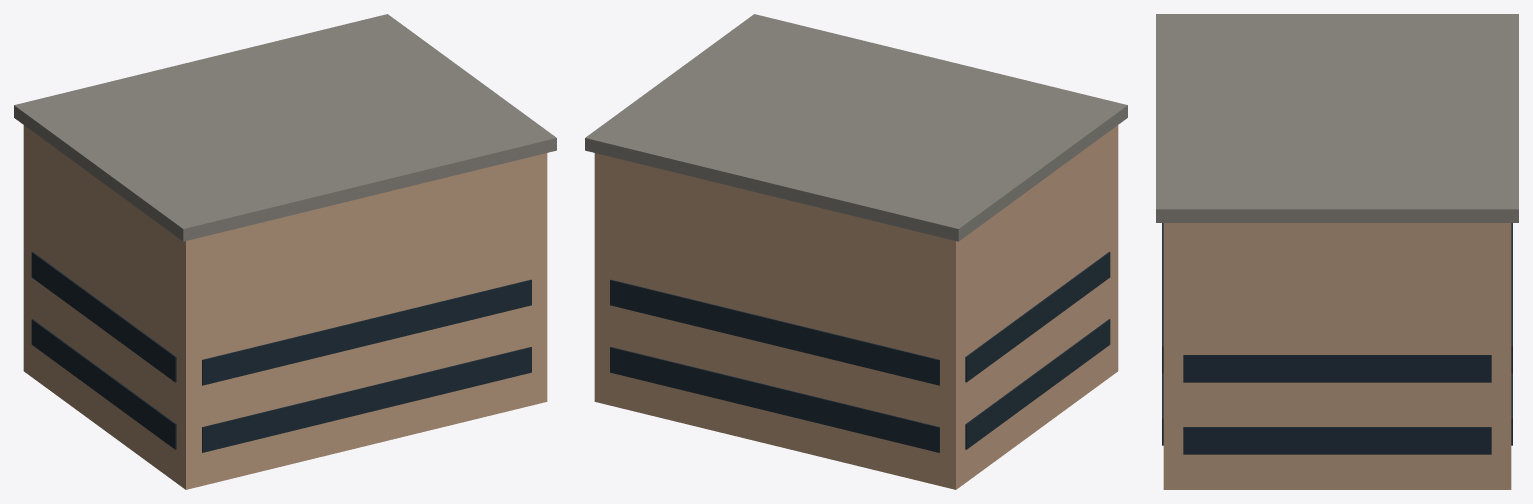
File: Building2.glb
3 views of the same model, side by side, from view 1: azimuth 30°, elevation 25°; view 2: azimuth 150°, elevation 25°; view 3: azimuth 270°, elevation 25° (orthographic). The views are drawn at different scales.
Visible parts, largest first — view 1: Building2; view 2: Building2; view 3: Building2.
Part boxes in pixels (x1,y1,x2,y2): Building2: [14, 14, 556, 489]; Building2: [585, 14, 1127, 489]; Building2: [1156, 14, 1518, 489].
Bounding box in the file's own units: 18.6 × 12.6 × 14.6.
